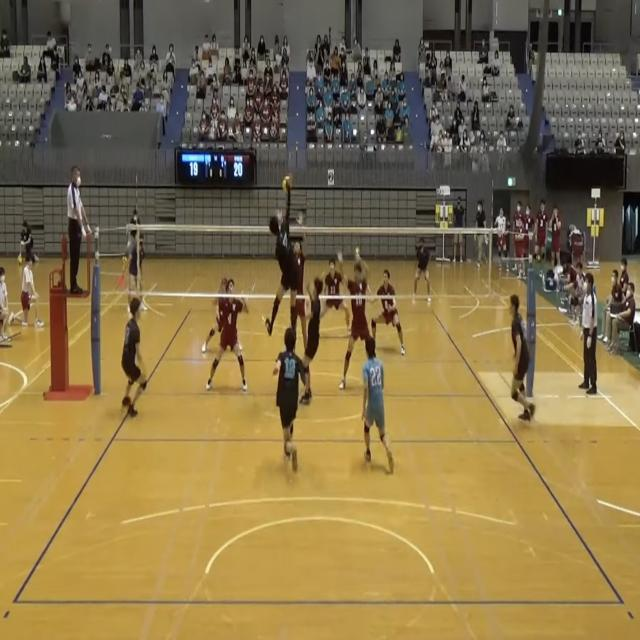spike: (262, 172, 301, 360)
